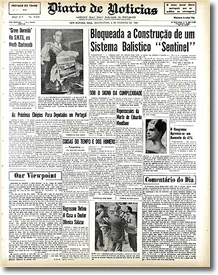news_paper: (1, 1, 214, 270)
